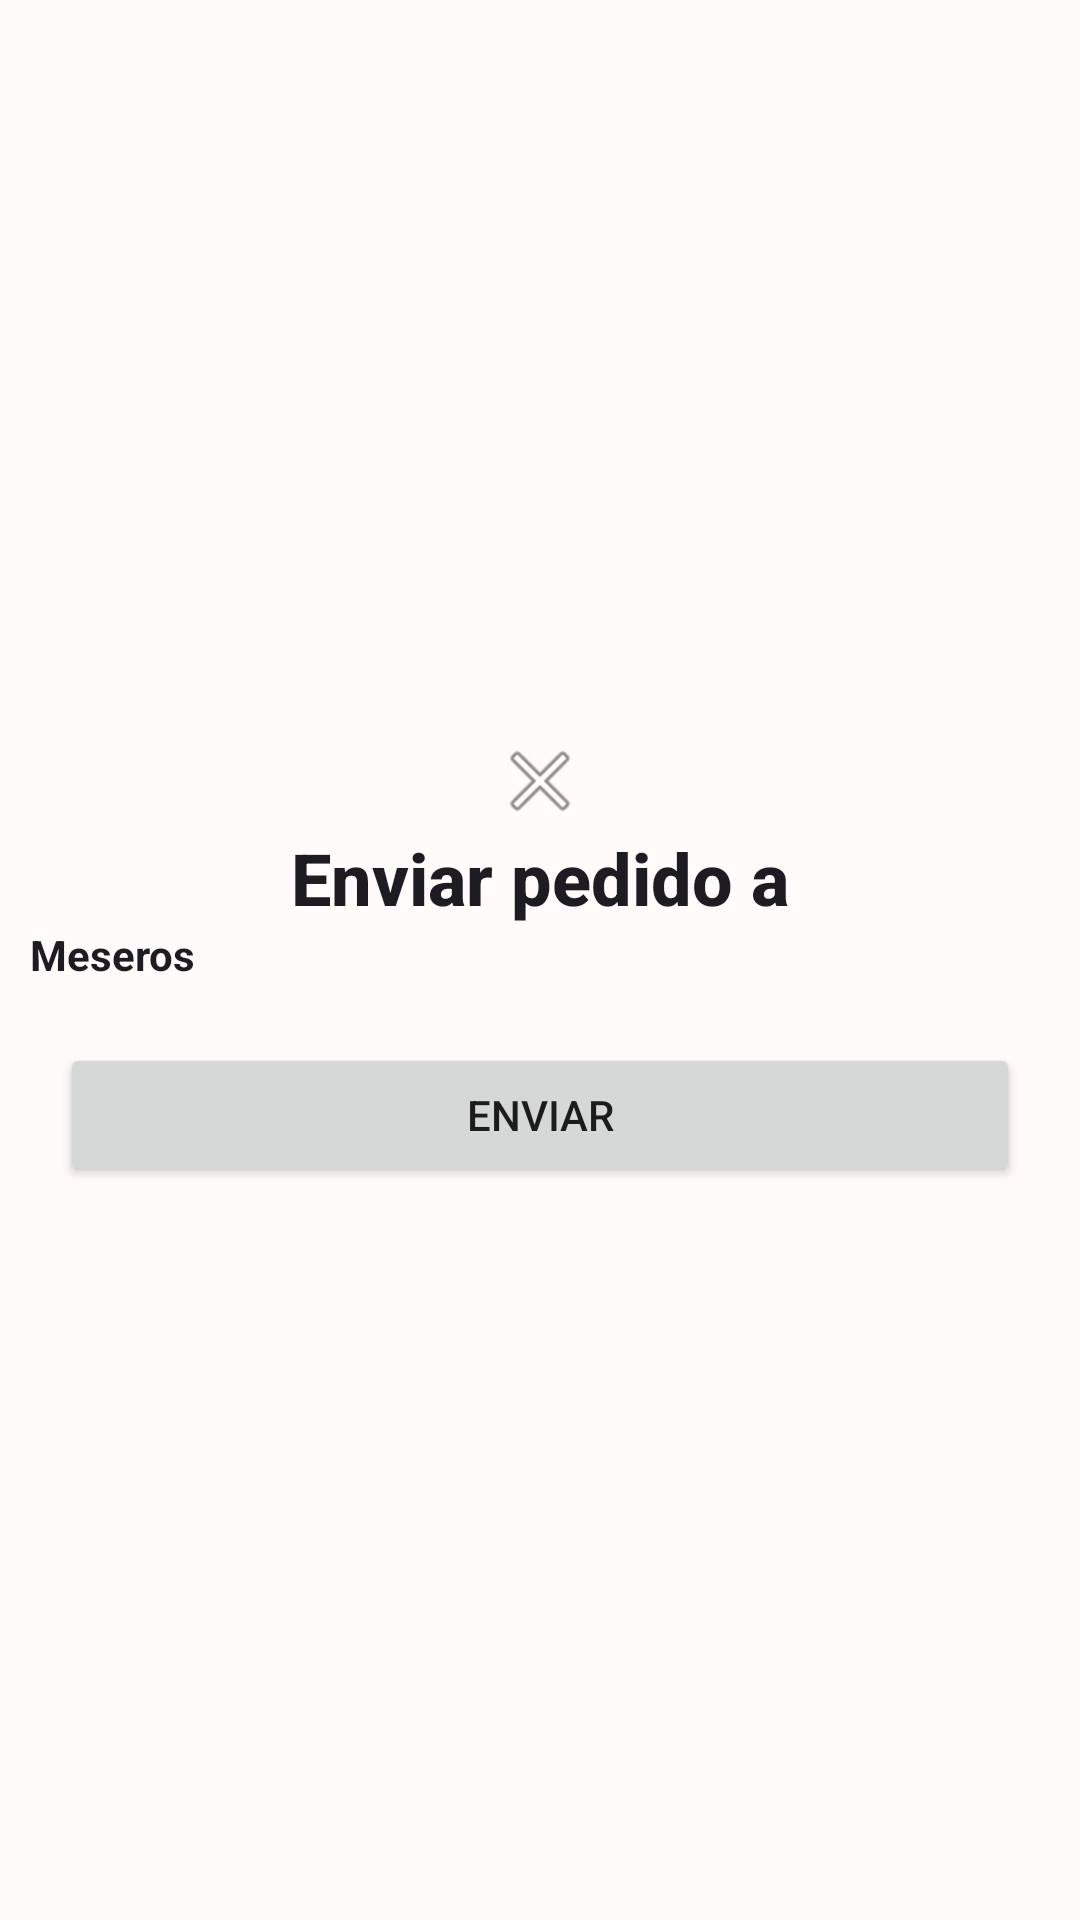

Where icons sit on this 1080px×1920px app screen, as rect(x1, y1, x2, y2):
close clear cancel: rect(510, 751, 570, 811)
